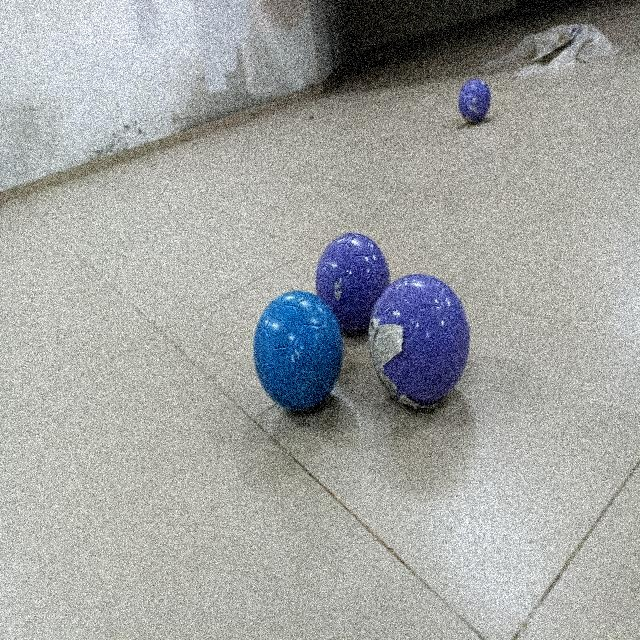blue_ball: (254, 284, 348, 406)
purple_ball: (362, 277, 470, 418), (314, 223, 394, 331), (454, 72, 498, 132)
